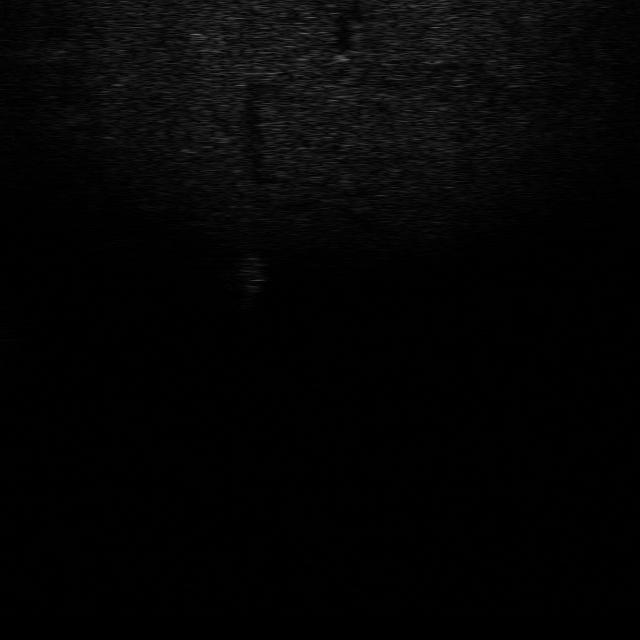human body: (229, 250, 266, 313)
